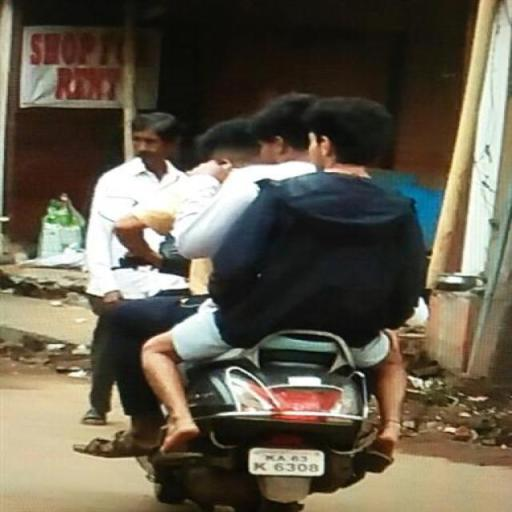tripple riding: (122, 91, 478, 329)
